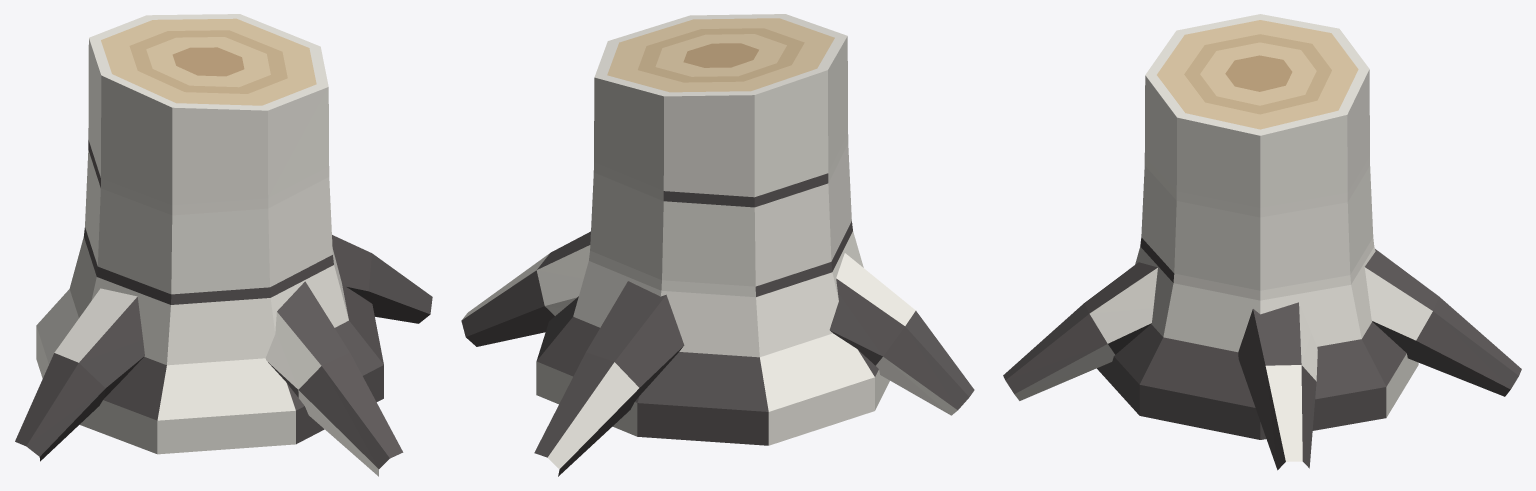
File: birch_stump.glb
3 views of the same model, side by side, from view 1: azimuth 30°, elevation 25°; view 2: azimuth 150°, elevation 25°; view 3: azimuth 270°, elevation 25° (orthographic). The views are drawn at different scales.
Parts seen in each view (by area): view 1: BirchStump; view 2: BirchStump; view 3: BirchStump.
Boxes of the visible parts, x1,y1,x2,y2 form: BirchStump: (15,14,432,476); BirchStump: (461,14,974,476); BirchStump: (1003,14,1521,470).
Bounding box in the file's own units: 0.7128 × 0.5059 × 0.7546.
